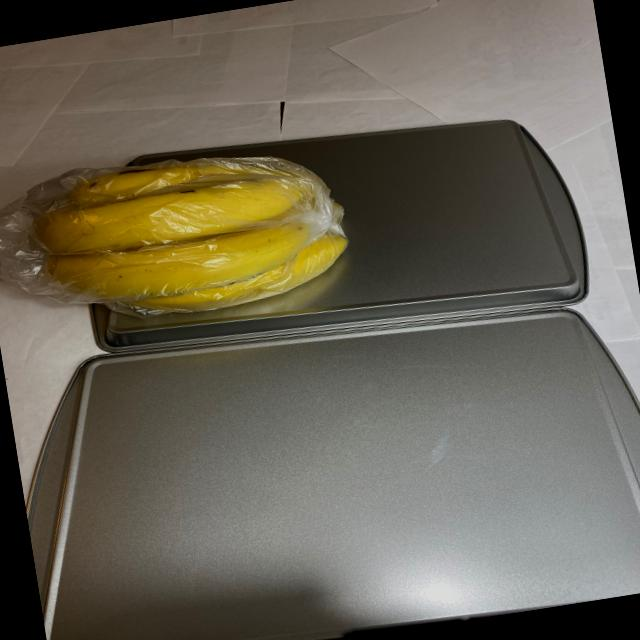banana: (19, 138, 364, 346)
